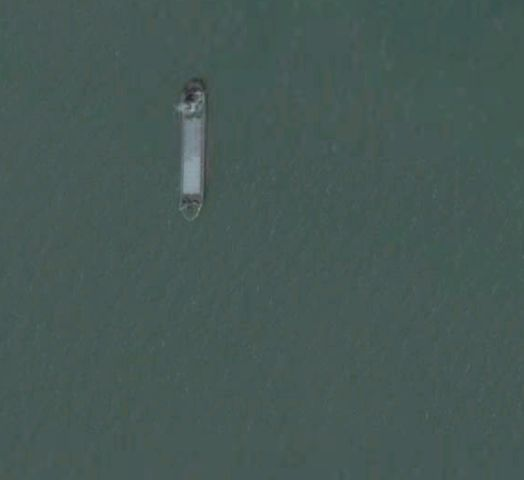boat: (174, 75, 209, 225)
